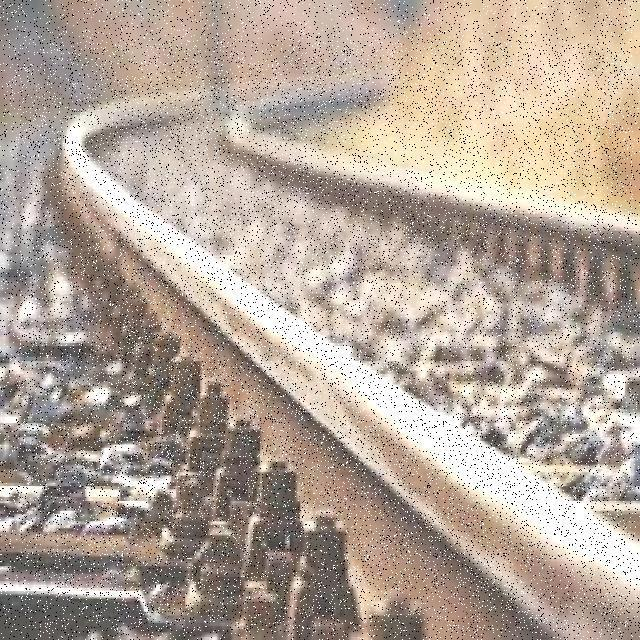rail: (20, 42, 632, 631)
